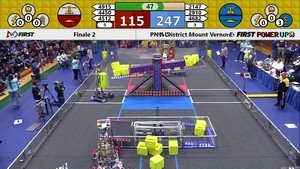cube: (147, 156, 165, 169), (135, 141, 149, 155), (146, 133, 157, 148), (192, 124, 205, 136), (169, 140, 179, 155), (121, 62, 131, 75), (111, 58, 121, 69), (99, 74, 110, 83), (182, 57, 192, 66), (113, 69, 122, 78), (190, 55, 199, 64)
